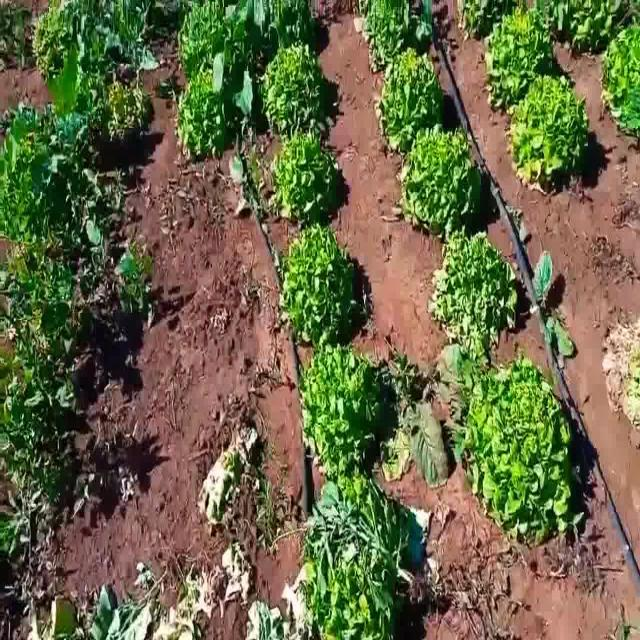Lettuce: (458, 364, 588, 541), (304, 474, 419, 640), (429, 231, 527, 355), (276, 225, 368, 353), (302, 343, 388, 468), (396, 126, 484, 228), (507, 75, 590, 178), (264, 125, 342, 222), (481, 17, 556, 98), (378, 55, 442, 142), (177, 72, 236, 156), (178, 1, 245, 72), (258, 48, 322, 122), (595, 28, 640, 128)
